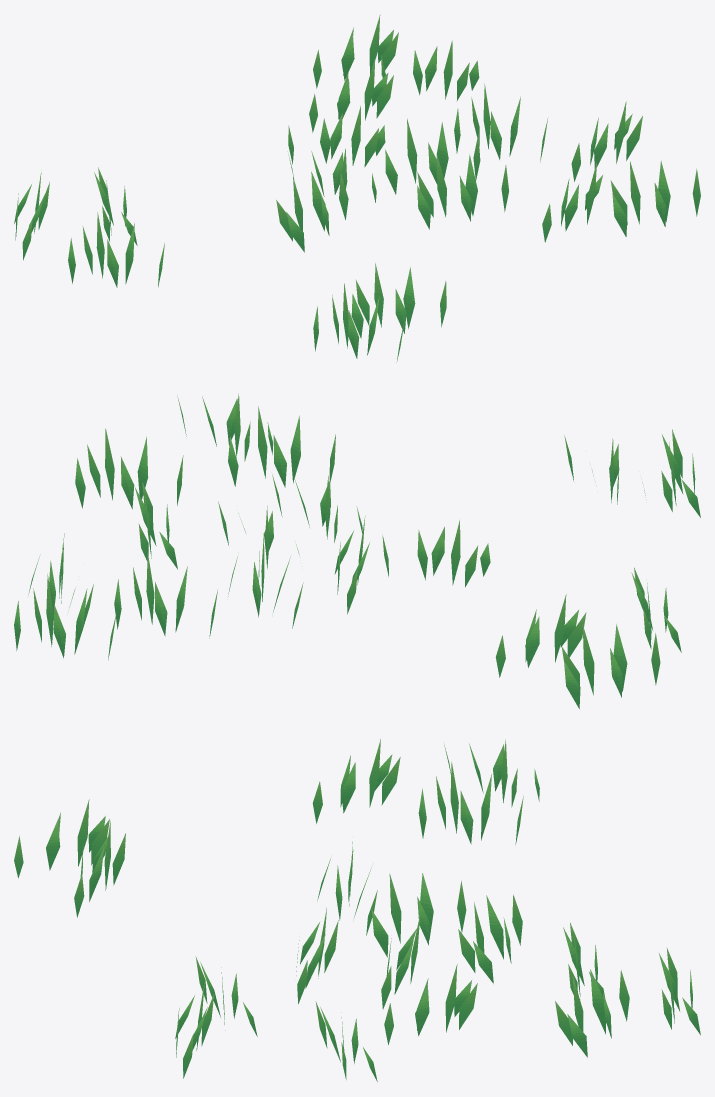
The model's file is plants_un_main_grass_set01_01.gltf.
3 renders of one model, top to bottom at view 1: azimuth 30°, elevation 25°; view 2: azimuth 150°, elevation 25°; view 3: azimuth 270°, elevation 25°, orthographic. The views are drawn at different scales.
Visible parts, largest first — view 1: plants_un_main_grass_set01_01_mesh_shape:plants_un_main_gras; view 2: plants_un_main_grass_set01_01_mesh_shape:plants_un_main_gras; view 3: plants_un_main_grass_set01_01_mesh_shape:plants_un_main_gras.
Boxes of the visible parts, <box> form: plants_un_main_grass_set01_01_mesh_shape:plants_un_main_gras: <box>14,14,700,362</box>; plants_un_main_grass_set01_01_mesh_shape:plants_un_main_gras: <box>14,393,700,708</box>; plants_un_main_grass_set01_01_mesh_shape:plants_un_main_gras: <box>14,739,700,1081</box>.
Size of what is drawn, in the model's own units: 3.78 by 0.4184 by 3.6.
1 material, 1 textured.
